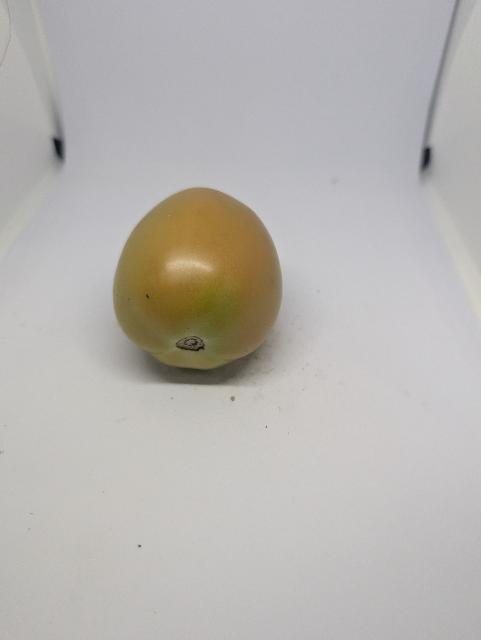breaker: (113, 188, 282, 369)
